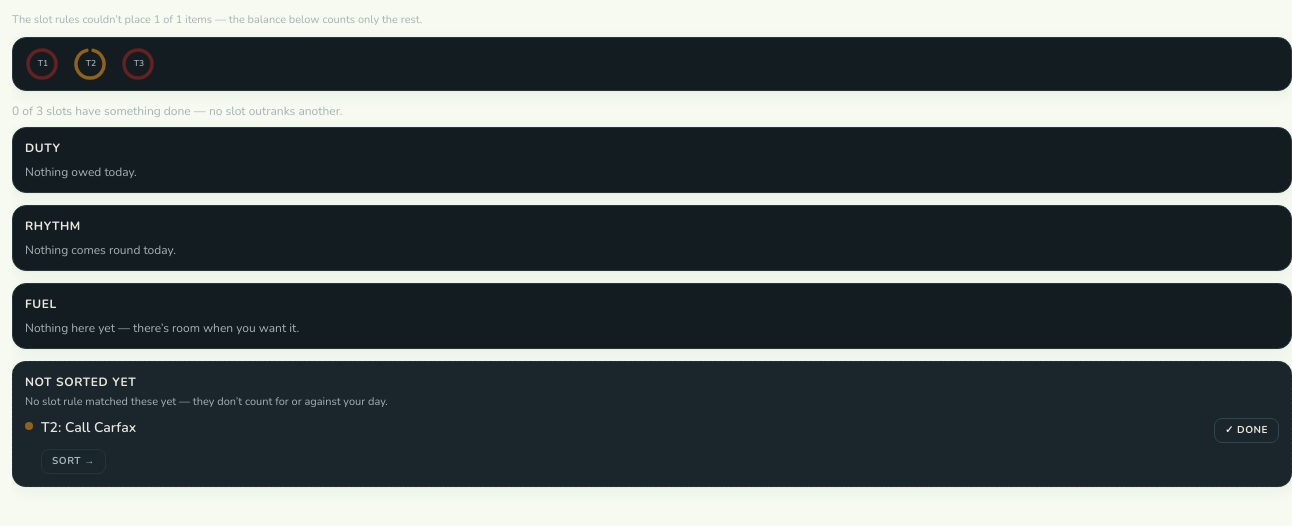
Test: the row moves, and moves honestly › surfaces a refusal on the row instead of moving it
Click the button with test id "board-sort-open": (73, 462) [41,449,106,474]
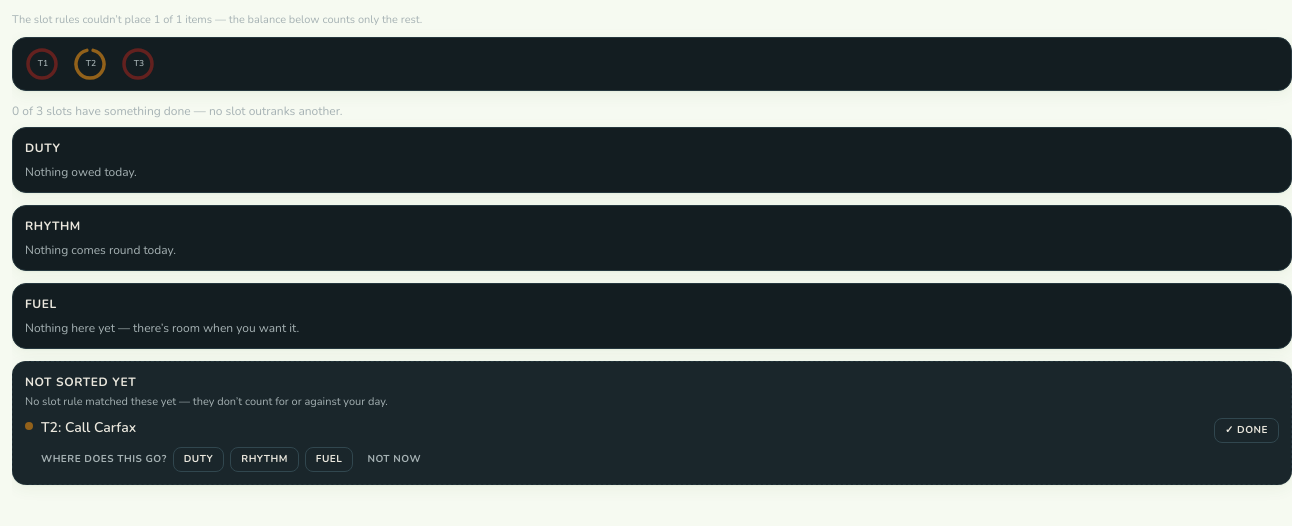
Click the button with test id "board-sort-fuel": (329, 460) [305,447,353,472]
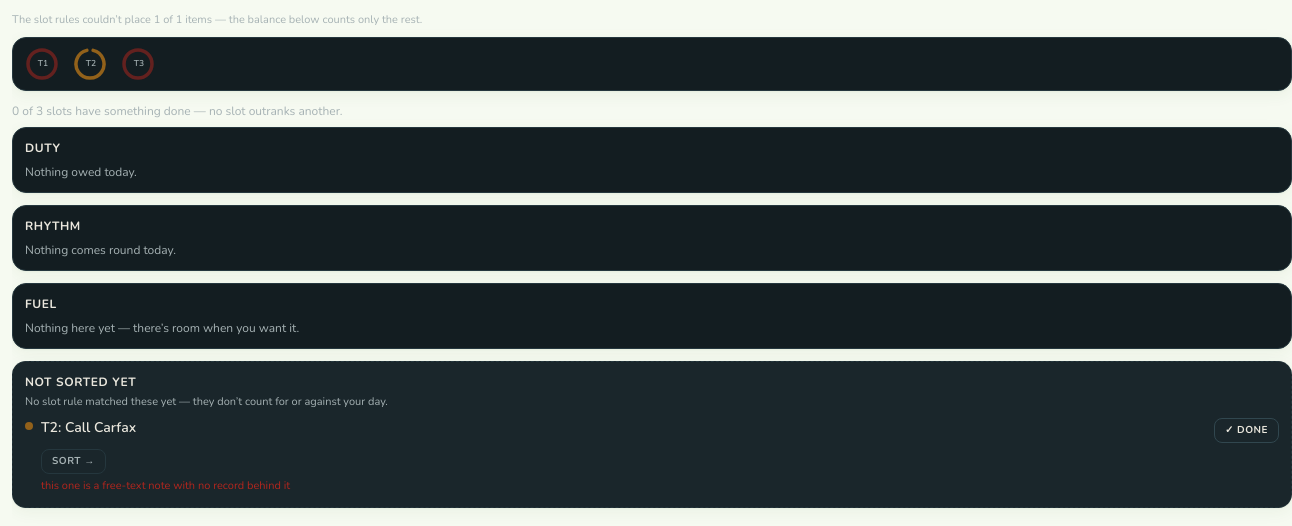
Check: the element with test id "board-stack-unslotted" shows "Call Carfax", box [25,418,1206,438]
Check: the message with test id "board-item-error" shows "free-text note", box [41,478,290,493]
